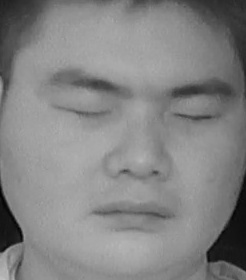blink: (57, 89, 113, 126), (169, 96, 221, 130)
mouth: (86, 185, 177, 242)
